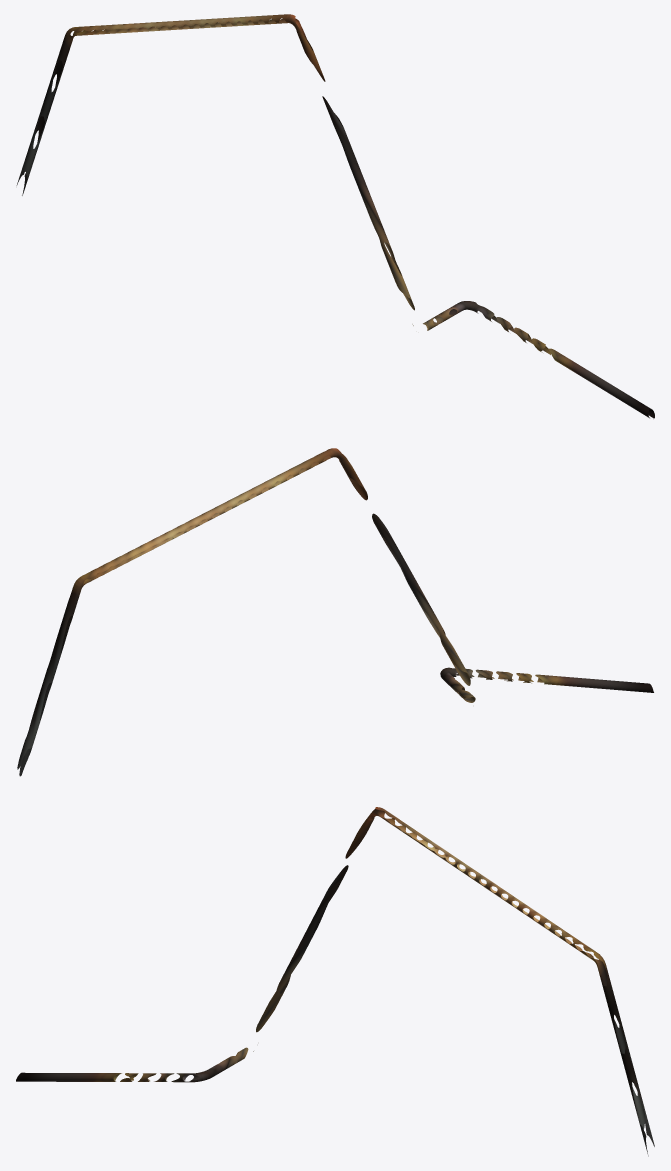
Rendered from wire7.fbx.
3 views of the same model, one above another, from view 1: azimuth 90°, elevation 25°; view 2: azimuth 150°, elevation 25°; view 3: azimuth 270°, elevation 25° (orthographic).
Parts seen in each view (by area): view 1: wire7; view 2: wire7; view 3: wire7.
Part boxes in pixels (x1,y1,x2,y2): wire7: (16, 14, 654, 418); wire7: (17, 448, 653, 776); wire7: (16, 807, 654, 1156).
Size of the model in its own units: 3.29 by 3.4 by 5.85.
1 material, 1 textured.
